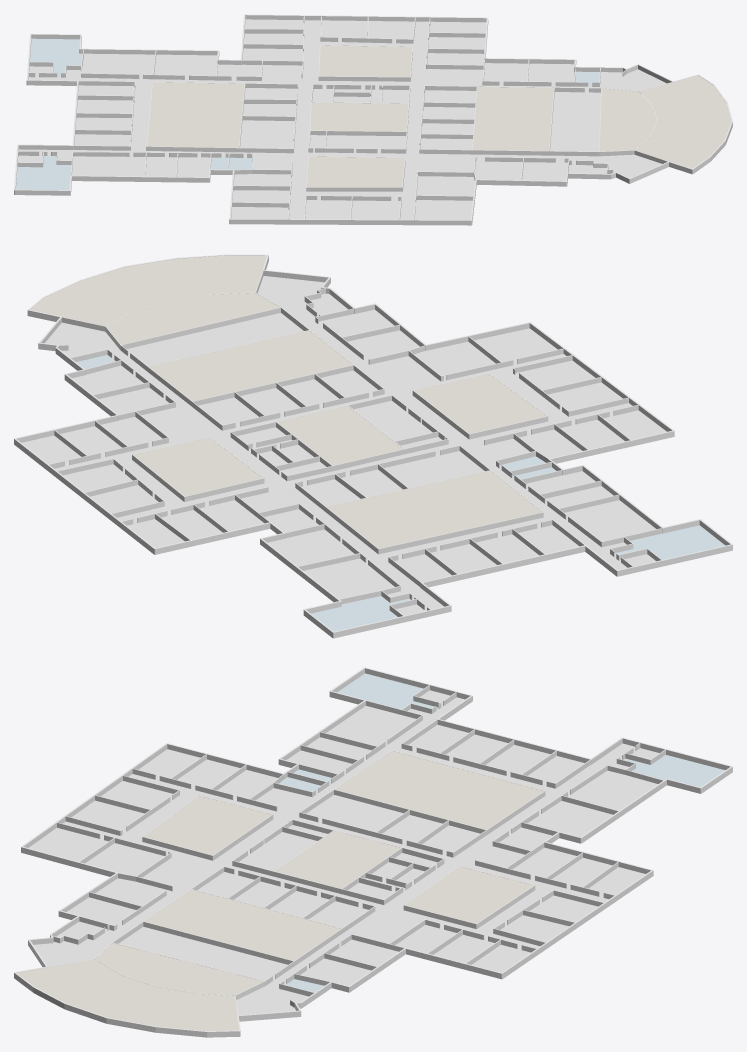
3 renders of one model, top to bottom at view 1: azimuth 30°, elevation 25°; view 2: azimuth 150°, elevation 25°; view 3: azimuth 270°, elevation 25°, orthographic. The views are drawn at different scales.
Visible parts, largest first — view 1: m_2f10945fd57d7c7d; view 2: m_2f10945fd57d7c7d; view 3: m_2f10945fd57d7c7d.
Part boxes in pixels (x1,y1,x2,y2): m_2f10945fd57d7c7d: (14,14,732,225); m_2f10945fd57d7c7d: (14,254,732,638); m_2f10945fd57d7c7d: (14,667,732,1037).
Bounding box in the file's own units: 65.68 × 0.4708 × 54.73.
